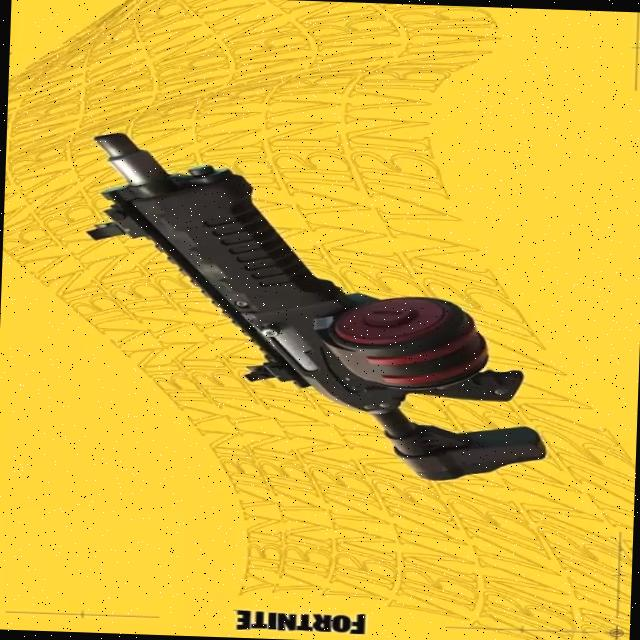firearm: (70, 128, 558, 484)
